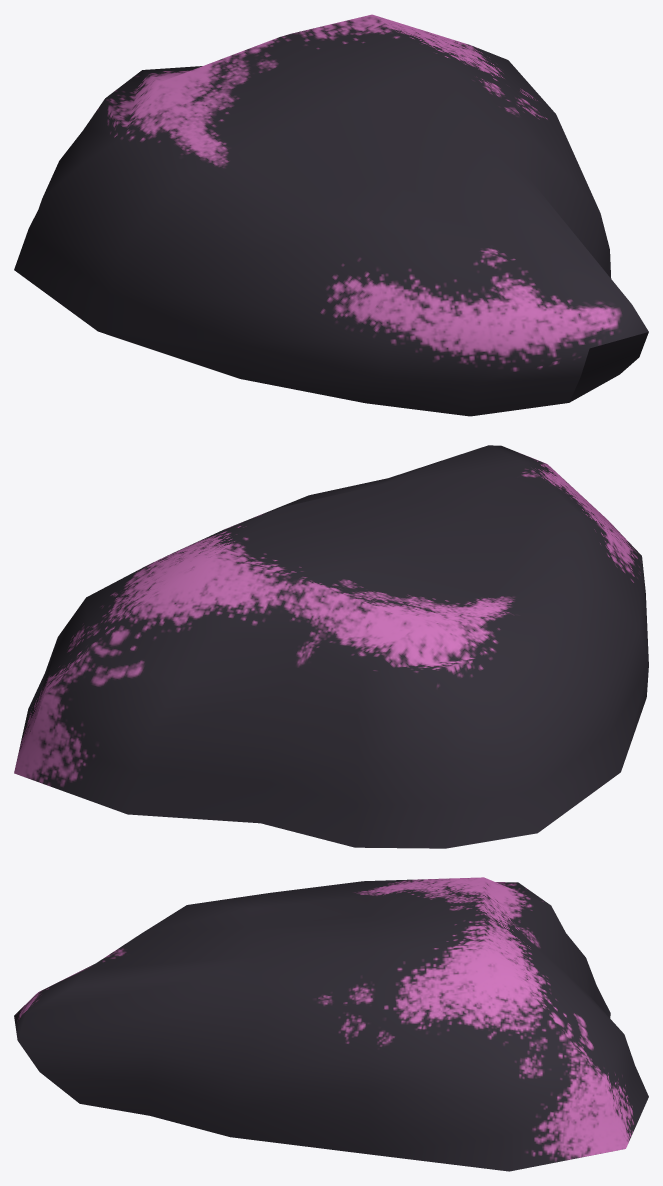
File: boulder3.fbx
The picture shows the model from 3 angles, top to bottom: view 1: azimuth 30°, elevation 25°; view 2: azimuth 150°, elevation 25°; view 3: azimuth 270°, elevation 25°; orthographic projection. The views are drawn at different scales.
Visible parts, largest first — view 1: Boulder3; view 2: Boulder3; view 3: Boulder3.
Part boxes in pixels (left/top/right/bottom): Boulder3: left=14, top=14, right=648, bottom=416; Boulder3: left=14, top=445, right=648, bottom=848; Boulder3: left=14, top=877, right=648, bottom=1171.
Size of the model in its own units: 60.03 by 20.4 by 77.25.
1 material, 1 textured.
